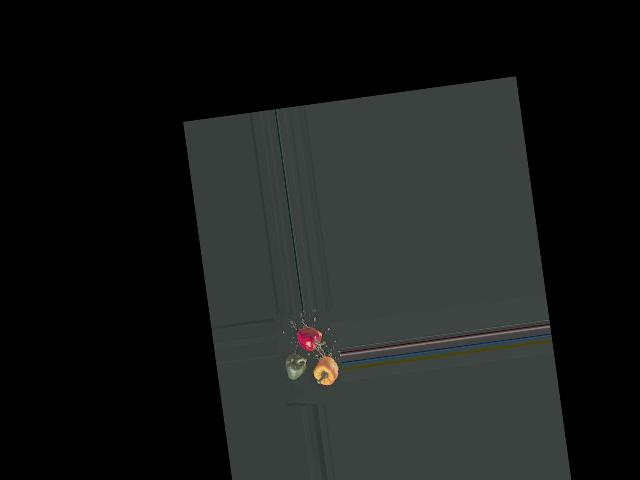bell_pepper: (290, 323, 330, 357)
